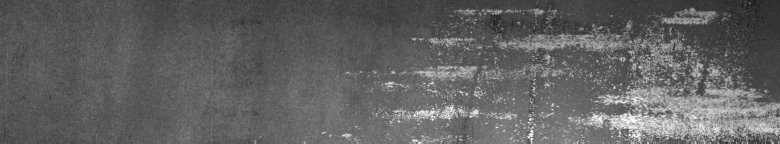kb: (322, 4, 776, 136)
